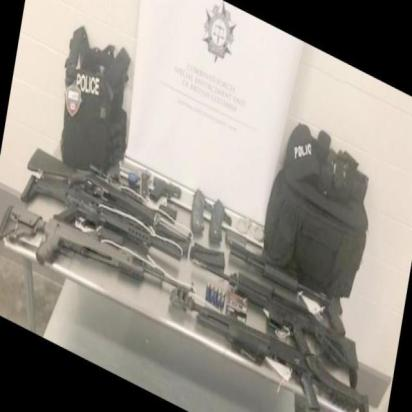Gun: (188, 289, 376, 412), (2, 228, 181, 281)
